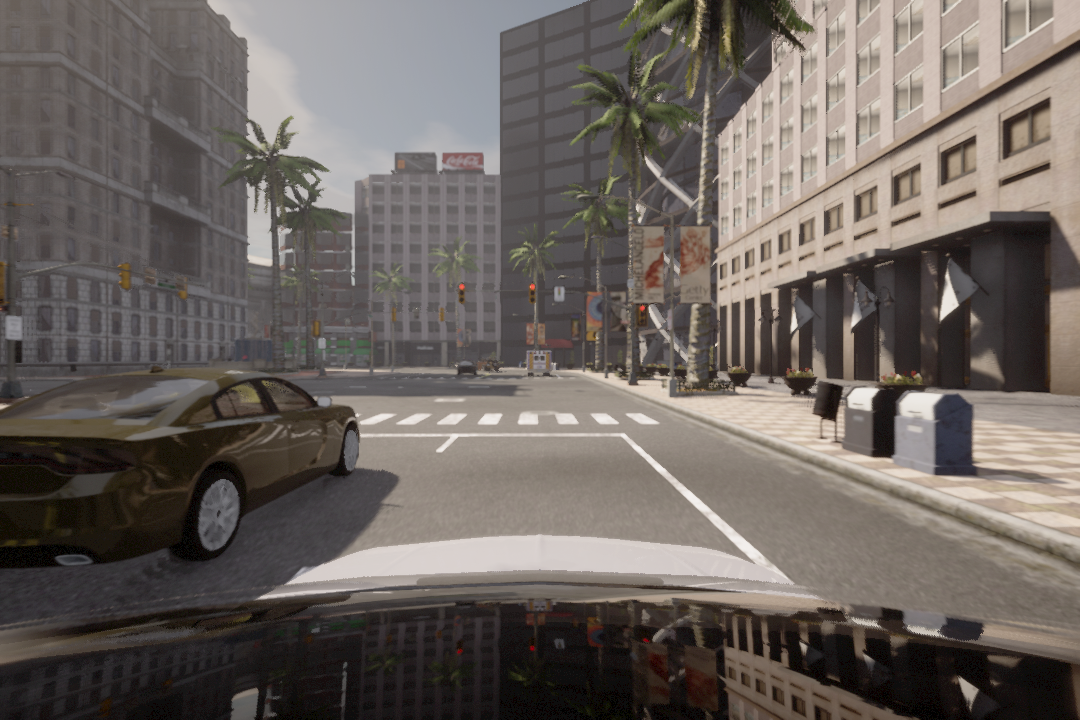TrafficLight: (637, 301, 650, 328), (455, 281, 468, 305), (527, 283, 538, 304)
walkside: (344, 409, 672, 433)
